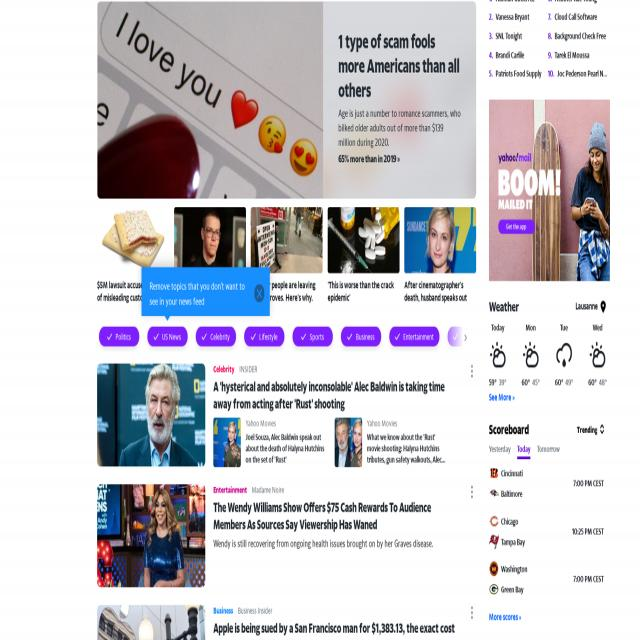button: (97, 2, 323, 200), (489, 99, 611, 281), (97, 362, 205, 466), (97, 485, 205, 587), (97, 208, 169, 273), (174, 208, 246, 273), (251, 208, 323, 273), (328, 208, 400, 273), (404, 208, 476, 273), (98, 606, 205, 640), (213, 418, 241, 467), (335, 418, 362, 467), (389, 326, 439, 346), (196, 326, 236, 348), (147, 327, 188, 348), (100, 325, 139, 347), (244, 326, 284, 347), (292, 326, 333, 346), (341, 326, 381, 346), (487, 443, 513, 460), (537, 443, 559, 460), (448, 326, 462, 346), (517, 443, 531, 460), (254, 284, 265, 302), (489, 582, 500, 600), (489, 464, 499, 482), (489, 512, 499, 530), (489, 560, 499, 578), (597, 421, 607, 438), (489, 485, 499, 502), (490, 533, 500, 550), (599, 300, 607, 314), (462, 332, 469, 344)
field: (576, 424, 607, 435)
